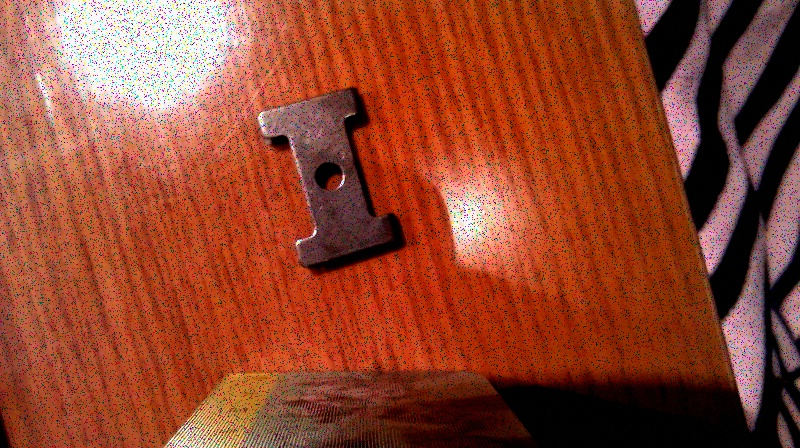O002: (256, 85, 405, 270)
